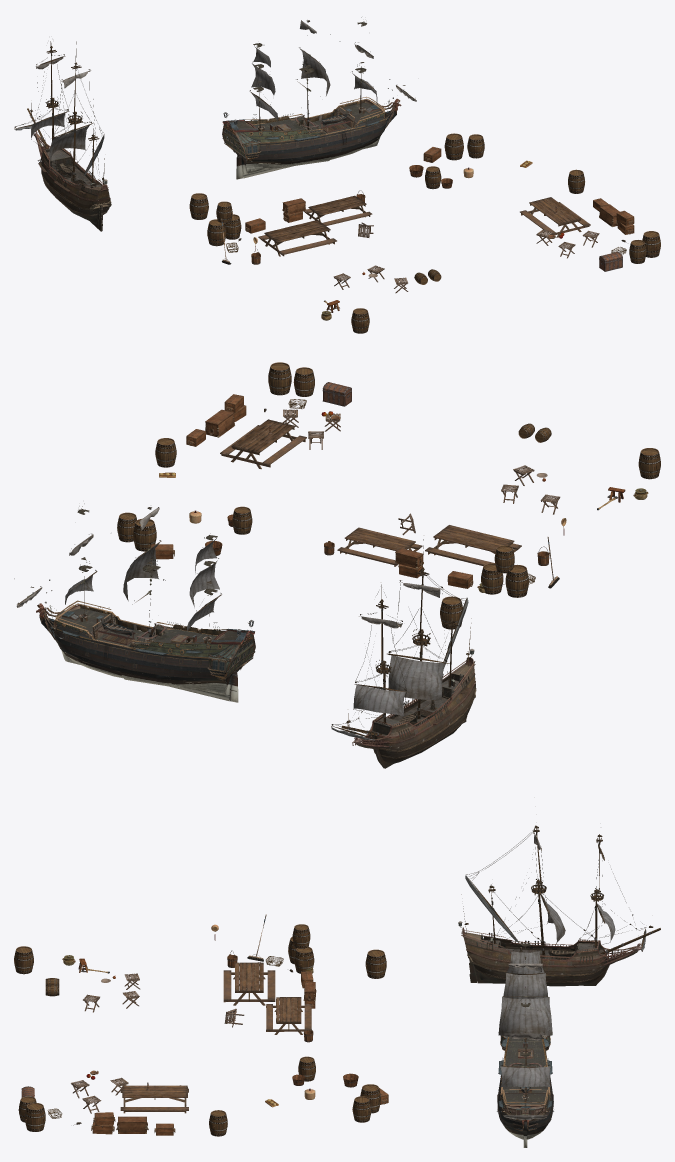
File: taproom_props.glb
3 views of the same model, one above another, from view 1: azimuth 30°, elevation 25°; view 2: azimuth 150°, elevation 25°; view 3: azimuth 270°, elevation 25° (orthographic). The views are drawn at different scales.
Parts seen in each view (by area): view 1: PH_ship_pinnace.001, PH_dutch_ship_medium.001, PH_wooden_picnic_table.001, PH_wooden_picnic_table.003, PH_wooden_picnic_table.002; view 2: PH_ship_pinnace.001, PH_dutch_ship_medium.001, PH_wooden_picnic_table.003, PH_wooden_picnic_table.001, PH_wooden_picnic_table.002, PH_wine_barrel_01.003, PH_wine_barrel_01.001, PH_wine_barrel_01.005, PH_wooden_crate_02.001, PH_wine_barrel_01.006, PH_wine_barrel_01.008; view 3: PH_ship_pinnace.001, PH_dutch_ship_medium.001, PH_wooden_picnic_table.001, PH_wooden_picnic_table.003, PH_wooden_picnic_table.002, PH_wine_barrel_01.008, PH_wine_barrel_01.003, PH_wooden_crate_02.001.
Part boxes in pixels (x1=…): PH_ship_pinnace.001: x1=222, y1=17, x2=416, y2=179; PH_dutch_ship_medium.001: x1=14, y1=41, x2=111, y2=231; PH_wooden_picnic_table.001: x1=258, y1=220, x2=336, y2=256; PH_wooden_picnic_table.003: x1=520, y1=197, x2=590, y2=237; PH_wooden_picnic_table.002: x1=303, y1=195, x2=372, y2=225; PH_ship_pinnace.001: x1=14, y1=503, x2=255, y2=702; PH_dutch_ship_medium.001: x1=331, y1=539, x2=476, y2=768; PH_wooden_picnic_table.003: x1=220, y1=419, x2=306, y2=469; PH_wooden_picnic_table.001: x1=425, y1=525, x2=521, y2=565; PH_wooden_picnic_table.002: x1=337, y1=527, x2=422, y2=567; PH_wine_barrel_01.003: x1=268, y1=362, x2=291, y2=395; PH_wine_barrel_01.001: x1=505, y1=564, x2=528, y2=597; PH_wine_barrel_01.005: x1=638, y1=448, x2=660, y2=479; PH_wooden_crate_02.001: x1=205, y1=409, x2=234, y2=437; PH_wine_barrel_01.006: x1=133, y1=518, x2=156, y2=551; PH_wine_barrel_01.008: x1=440, y1=596, x2=462, y2=629; PH_ship_pinnace.001: x1=497, y1=940, x2=553, y2=1147; PH_dutch_ship_medium.001: x1=458, y1=825, x2=660, y2=986; PH_wooden_picnic_table.001: x1=223, y1=962, x2=275, y2=1005; PH_wooden_picnic_table.003: x1=120, y1=1085, x2=188, y2=1113; PH_wooden_picnic_table.002: x1=266, y1=997, x2=311, y2=1034; PH_wine_barrel_01.008: x1=365, y1=949, x2=386, y2=978; PH_wine_barrel_01.003: x1=24, y1=1102, x2=45, y2=1131; PH_wooden_crate_02.001: x1=116, y1=1116, x2=148, y2=1133.
Bounding box in the file's own units: 17.25 × 7.59 × 22.96.
Materials: 35 (35 with a texture image).
